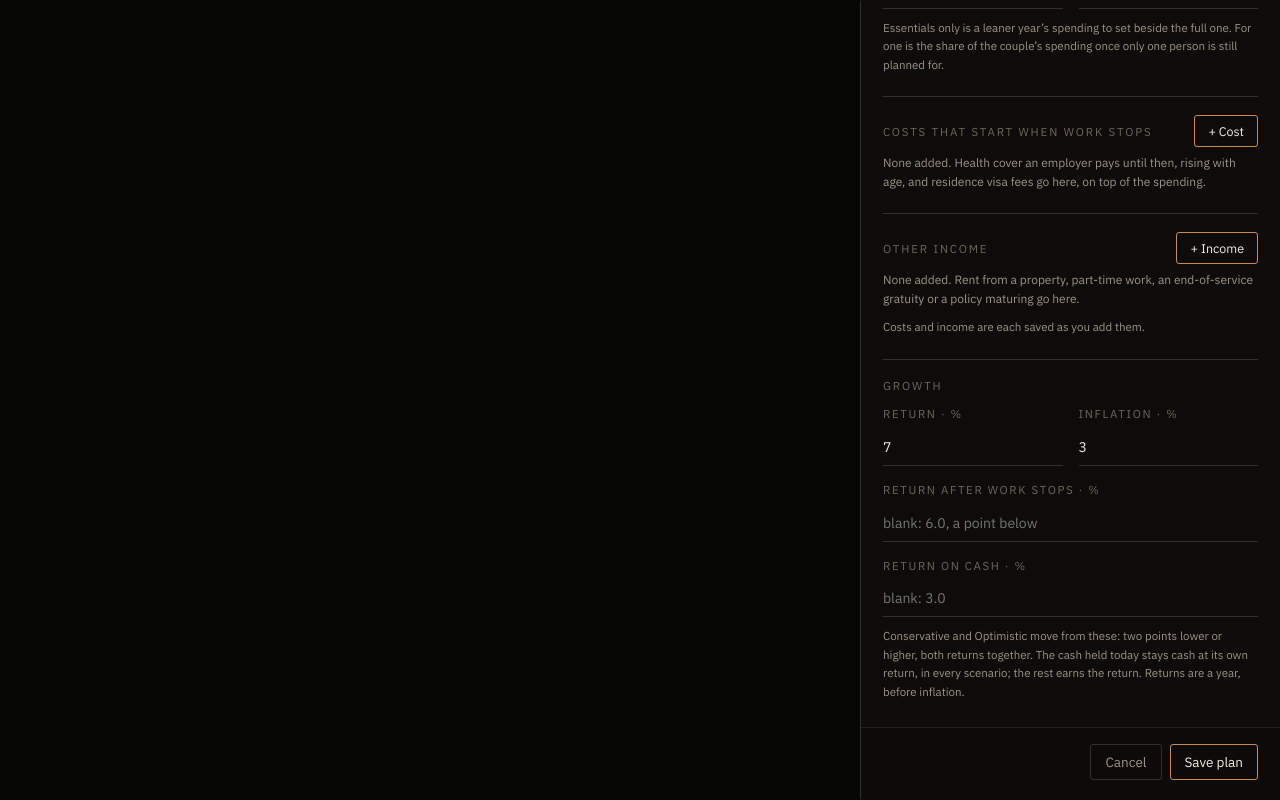
Test: LifePlanEditor: growth, on Baseline › takes the message away as the field is corrected
(page scrolled)
Replace the text in the number field named "Investment return, nominal percent a year" with "60" at point(973, 448), box [883,429,1062,466]
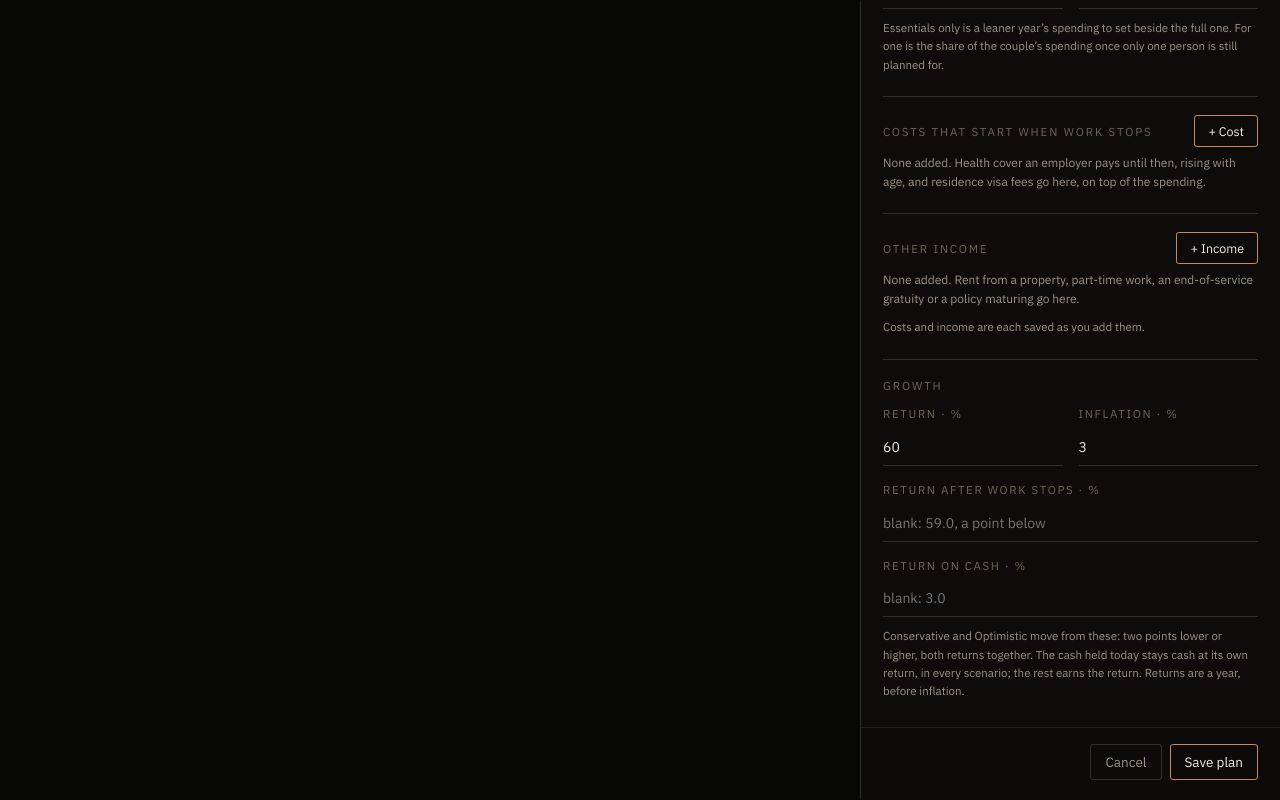
Click the button "Save plan".
click(1214, 762)  # box [1170,744,1258,780]
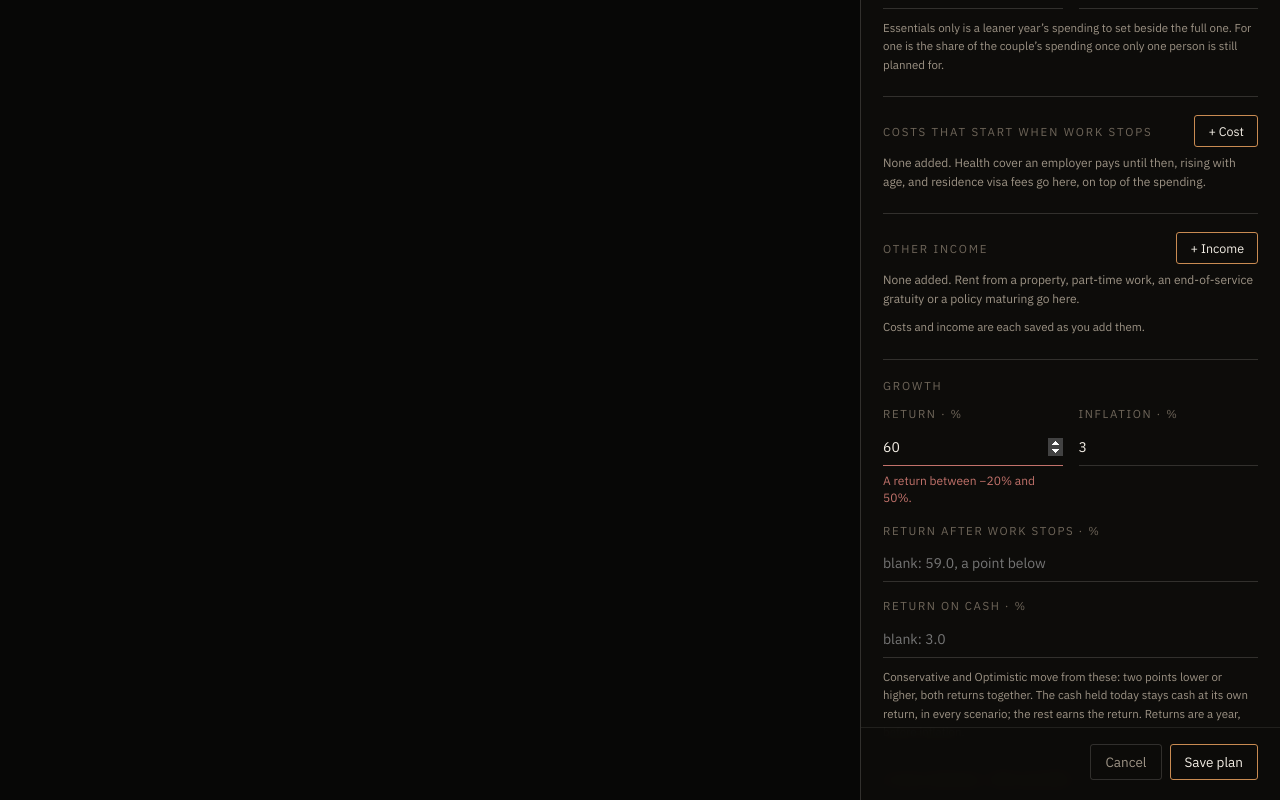
Replace the text in the number field named "Investment return, nominal percent a year" with "8" at point(973, 447), box [883,429,1062,466]
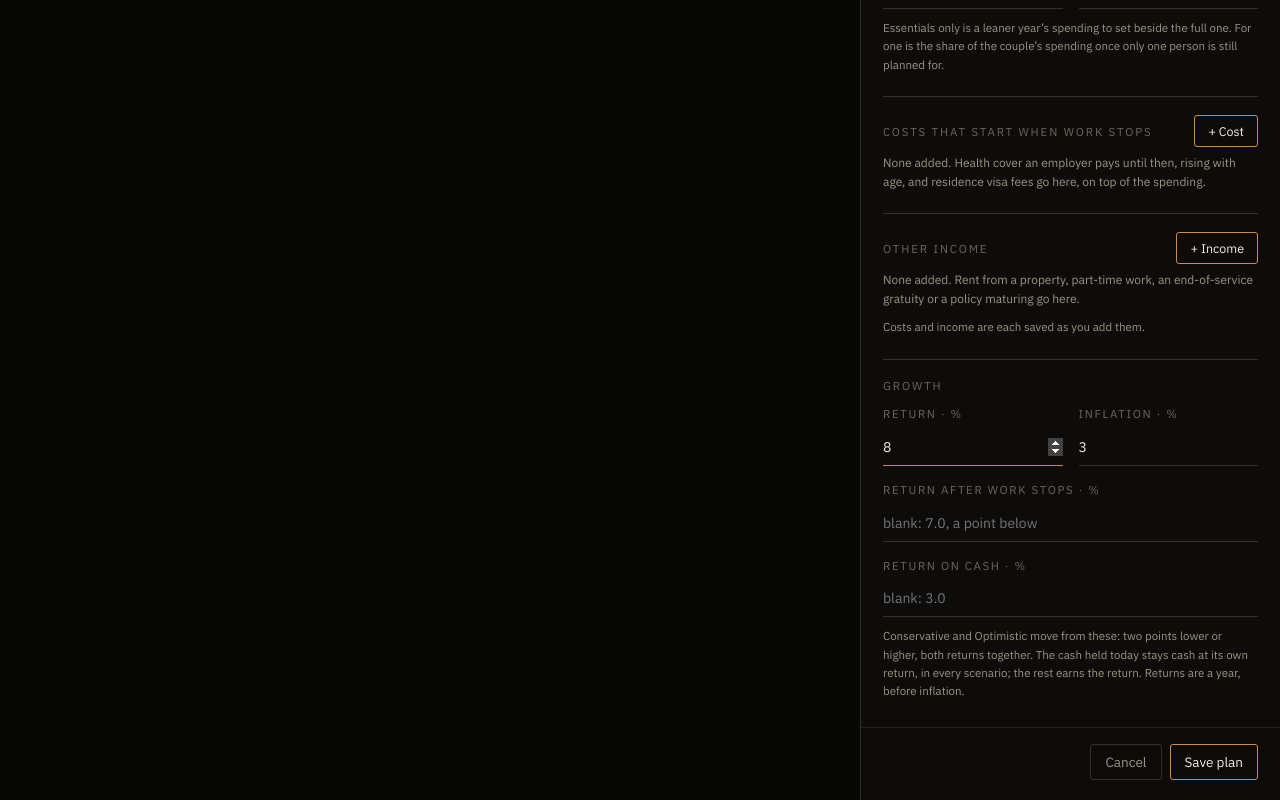
Result: the text with class "te-fieldproblem" is gone
